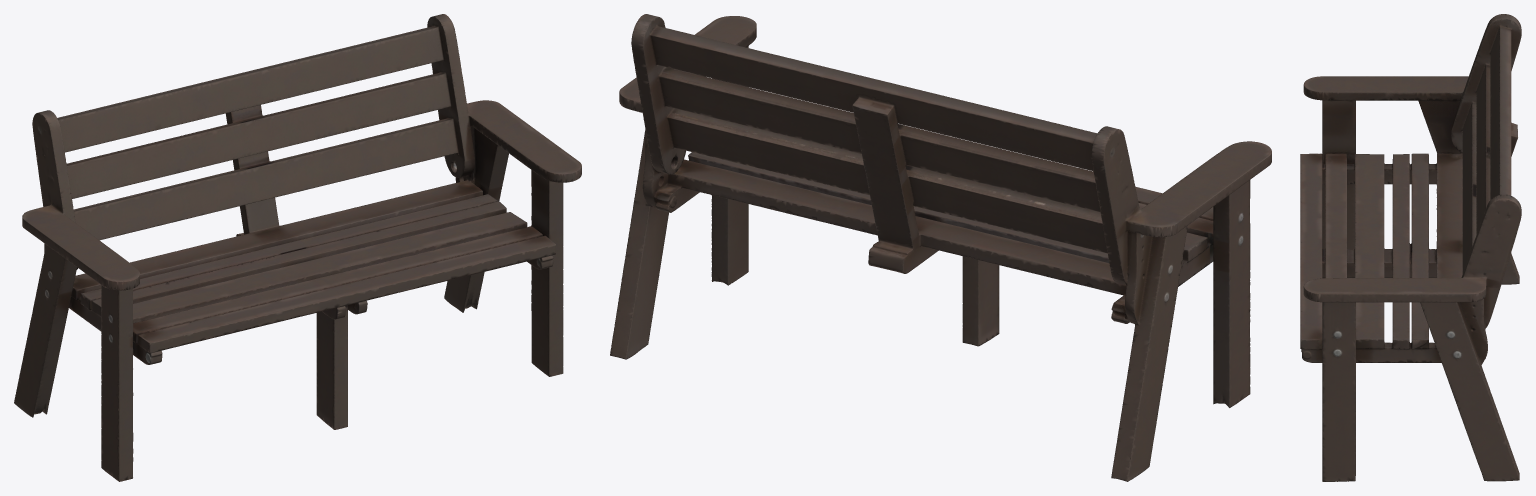
File: Meshy_AI_150cm_Jasmine_Bench_0324192102_texture-v1.glb
The picture shows the model from 3 angles, left to right: view 1: azimuth 30°, elevation 25°; view 2: azimuth 150°, elevation 25°; view 3: azimuth 270°, elevation 25°; orthographic projection. The views are drawn at different scales.
Parts seen in each view (by area): view 1: Mesh_0; view 2: Mesh_0; view 3: Mesh_0.
Boxes of the visible parts, x1,y1,x2,y2 form: Mesh_0: (14,14,581,481); Mesh_0: (610,14,1271,481); Mesh_0: (1300,14,1521,481).
Size of the model in its own units: 1.28 by 0.75 by 0.5476.
Materials: 1 (1 with a texture image).
